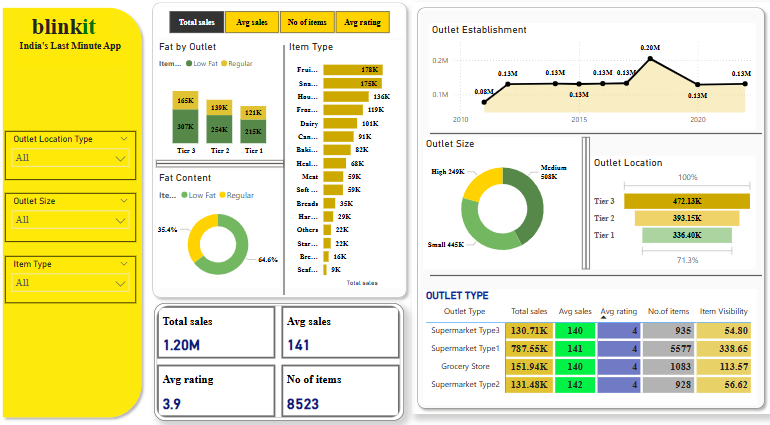

The dashboard page shown, as its layout file describes it:
{"tool":"powerbi","page":{"name":"Page 1","canvas":[1280,720],"ordinal":0},"visuals":[{"type":"shape","box":[0,14.9,248.4,697.1],"z":0},{"type":"shape","box":[687.2,14.9,592.8,682.2],"z":1000},{"type":"shape","box":[248.4,6.6,438.8,506.7],"z":2000},{"type":"donutChart","title":"Fat Content","fields":{"Y":["BlinkIT Grocery Data.Total sales"],"Category":["BlinkIT Grocery Data.Item Fat Content"]},"box":[263.3,294.7,205.3,195.4],"z":3000},{"type":"barChart","title":"Item Type","fields":{"Y":["BlinkIT Grocery Data.Total sales"],"Category":["BlinkIT Grocery Data.Item Type"]},"box":[478.6,77.8,195.4,412.3],"z":4000},{"type":"columnChart","title":" Fat by Outlet","fields":{"Y":["BlinkIT Grocery Data.Total sales"],"Category":["BlinkIT Grocery Data.Outlet Location Type"],"Series":["BlinkIT Grocery Data.Item Fat Content"]},"box":[263.6,77.9,212.2,199],"z":5000},{"type":"lineChart","title":" Outlet Establishment ","fields":{"Y":["BlinkIT Grocery Data.Total sales"],"Category":["BlinkIT Grocery Data.Outlet Establishment Year"]},"box":[715.3,49.7,541.5,177.2],"z":6000},{"type":"donutChart","title":"Outlet Size","fields":{"Category":["BlinkIT Grocery Data.Outlet Size"],"Y":["BlinkIT Grocery Data.Total sales"]},"box":[705.4,238.4,263.3,218.6],"z":7000},{"type":"funnel","title":" Outlet Location","fields":{"Y":["Sum(BlinkIT Grocery Data.Sales)"],"Category":["BlinkIT Grocery Data.Outlet Location Type"]},"box":[983.6,269.9,273.2,187.1],"z":8000},{"type":"pivotTable","title":"OUTLET TYPE","fields":{"Rows":["BlinkIT Grocery Data.Outlet Type"],"Values":["BlinkIT Grocery Data.Total sales","BlinkIT Grocery Data.Avg sales","BlinkIT Grocery Data.Avg rating","BlinkIT Grocery Data.No of items","Sum(BlinkIT Grocery Data.Item Visibility)"]},"box":[705.4,490.1,553.1,192.1],"z":9000},{"type":"slicer","fields":{"Values":["metrices.metrices"]},"box":[260,23.2,414,49.7],"z":10000},{"type":"textbox","box":[51.3,28.2,142.4,69.5],"z":11000},{"type":"textbox","box":[31.5,72.9,182.1,48],"z":12000},{"type":"shape","box":[468.6,86.1,13.2,414],"z":13000},{"type":"shape","box":[263.3,276.5,212,11.6],"z":14000},{"type":"shape","box":[717,226.9,549.8,11.6],"z":15000},{"type":"shape","box":[968.7,238.4,13.2,218.6],"z":16000},{"type":"shape","box":[717,457,549.8,21.5],"z":17000},{"type":"cardVisual","fields":{"Data":["BlinkIT Grocery Data.Total sales","BlinkIT Grocery Data.Avg sales","BlinkIT Grocery Data.Avg rating","BlinkIT Grocery Data.No of items"]},"box":[260,513.3,414,195.4],"z":18000},{"type":"slicer","fields":{"Values":["BlinkIT Grocery Data.Item Type"]},"box":[13.2,435.5,216.9,77.8],"z":19000},{"type":"slicer","fields":{"Values":["BlinkIT Grocery Data.Outlet Location Type"]},"box":[13.2,228.5,216.9,81.1],"z":20000},{"type":"slicer","fields":{"Values":["BlinkIT Grocery Data.Outlet Size"]},"box":[13.2,331.2,216.9,81.1],"z":21000}]}

Visuals, with their boxes in screenshot pixels (x1, y1, x2, y2), scaled from the page's 1280x720 canvas onto the 770x425 screenshot:
shape: bbox=[0, 9, 149, 420]
shape: bbox=[413, 9, 769, 411]
shape: bbox=[149, 4, 413, 303]
"Fat Content" donutChart: bbox=[158, 174, 282, 289]
"Item Type" barChart: bbox=[288, 46, 405, 289]
" Fat by Outlet" columnChart: bbox=[159, 46, 286, 163]
" Outlet Establishment " lineChart: bbox=[430, 29, 756, 134]
"Outlet Size" donutChart: bbox=[424, 141, 583, 270]
" Outlet Location" funnel: bbox=[592, 159, 756, 270]
"OUTLET TYPE" pivotTable: bbox=[424, 289, 757, 403]
slicer - metrices.metrices: bbox=[156, 14, 405, 43]
textbox: bbox=[31, 17, 117, 58]
textbox: bbox=[19, 43, 128, 71]
shape: bbox=[282, 51, 290, 295]
shape: bbox=[158, 163, 286, 170]
shape: bbox=[431, 134, 762, 141]
shape: bbox=[583, 141, 591, 270]
shape: bbox=[431, 270, 762, 282]
cardVisual - BlinkIT Grocery Data.Total sales x BlinkIT Grocery Data.Avg sales: bbox=[156, 303, 405, 418]
slicer - BlinkIT Grocery Data.Item Type: bbox=[8, 257, 138, 303]
slicer - BlinkIT Grocery Data.Outlet Location Type: bbox=[8, 135, 138, 183]
slicer - BlinkIT Grocery Data.Outlet Size: bbox=[8, 196, 138, 243]
